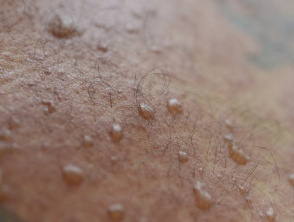SJS-TEN: (0, 7, 280, 222)
